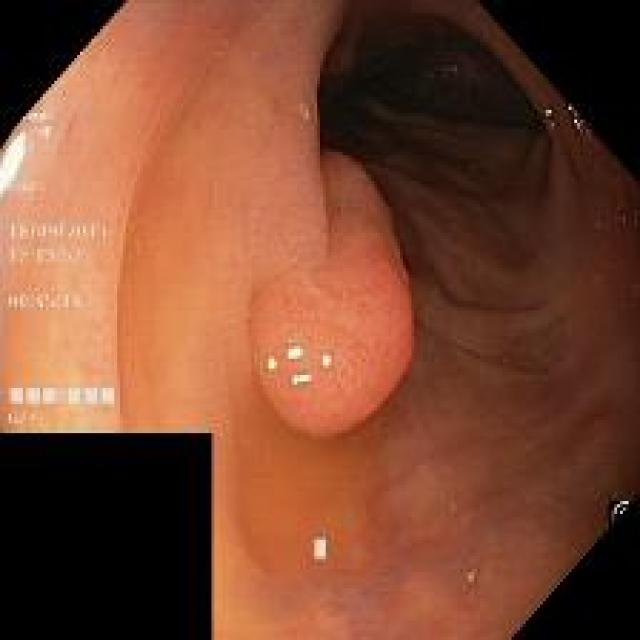Polyps: (249, 150, 415, 439)
